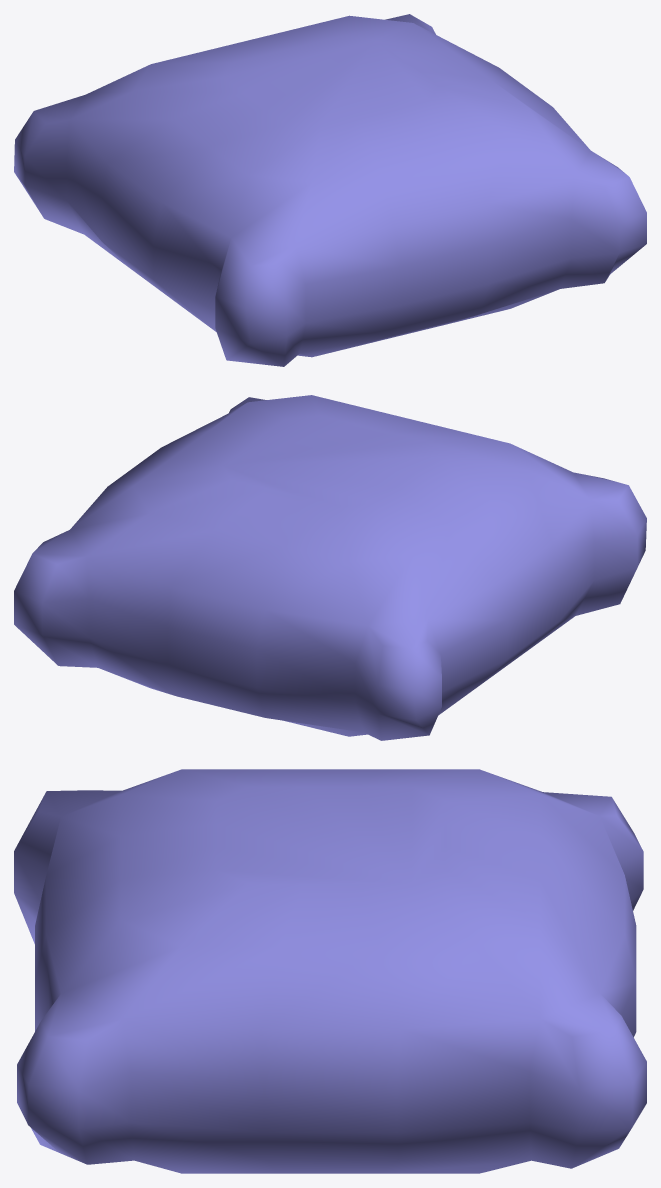
The model's file is pillow.fbx.
The picture shows the model from 3 angles, top to bottom: view 1: azimuth 30°, elevation 25°; view 2: azimuth 150°, elevation 25°; view 3: azimuth 270°, elevation 25°; orthographic projection. The views are drawn at different scales.
Visible parts, largest first — view 1: Cube.010; view 2: Cube.010; view 3: Cube.010.
Boxes of the visible parts, bbox=[...] form: Cube.010: bbox=[14, 14, 646, 366]; Cube.010: bbox=[14, 395, 646, 740]; Cube.010: bbox=[14, 769, 646, 1173].
Bounding box in the file's own units: 87.22 × 43.55 × 87.22.
